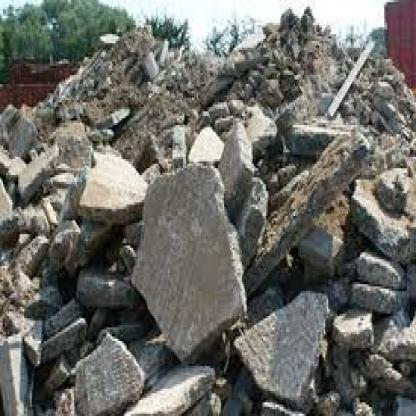brick: (1, 5, 414, 413)
